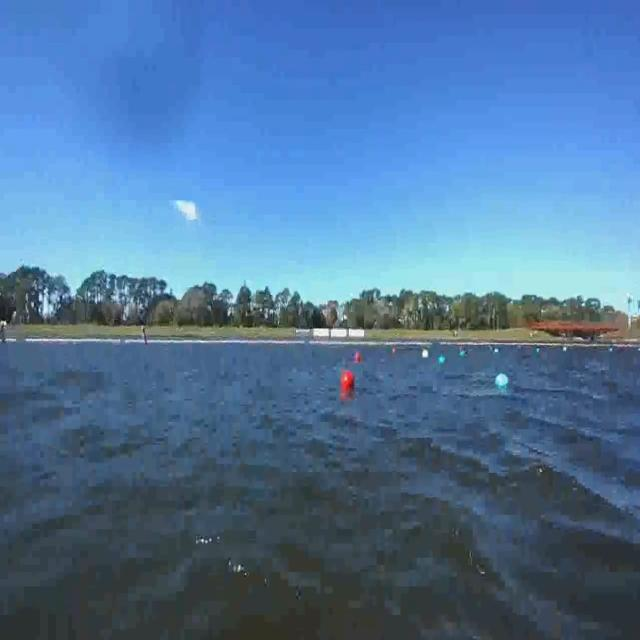green-buoy: (496, 372, 508, 388), (438, 355, 445, 364), (459, 349, 466, 358), (537, 347, 540, 353)
red-buoy: (343, 370, 357, 392), (355, 349, 361, 363), (392, 346, 396, 354)
yellow-buoy: (422, 346, 428, 358)
